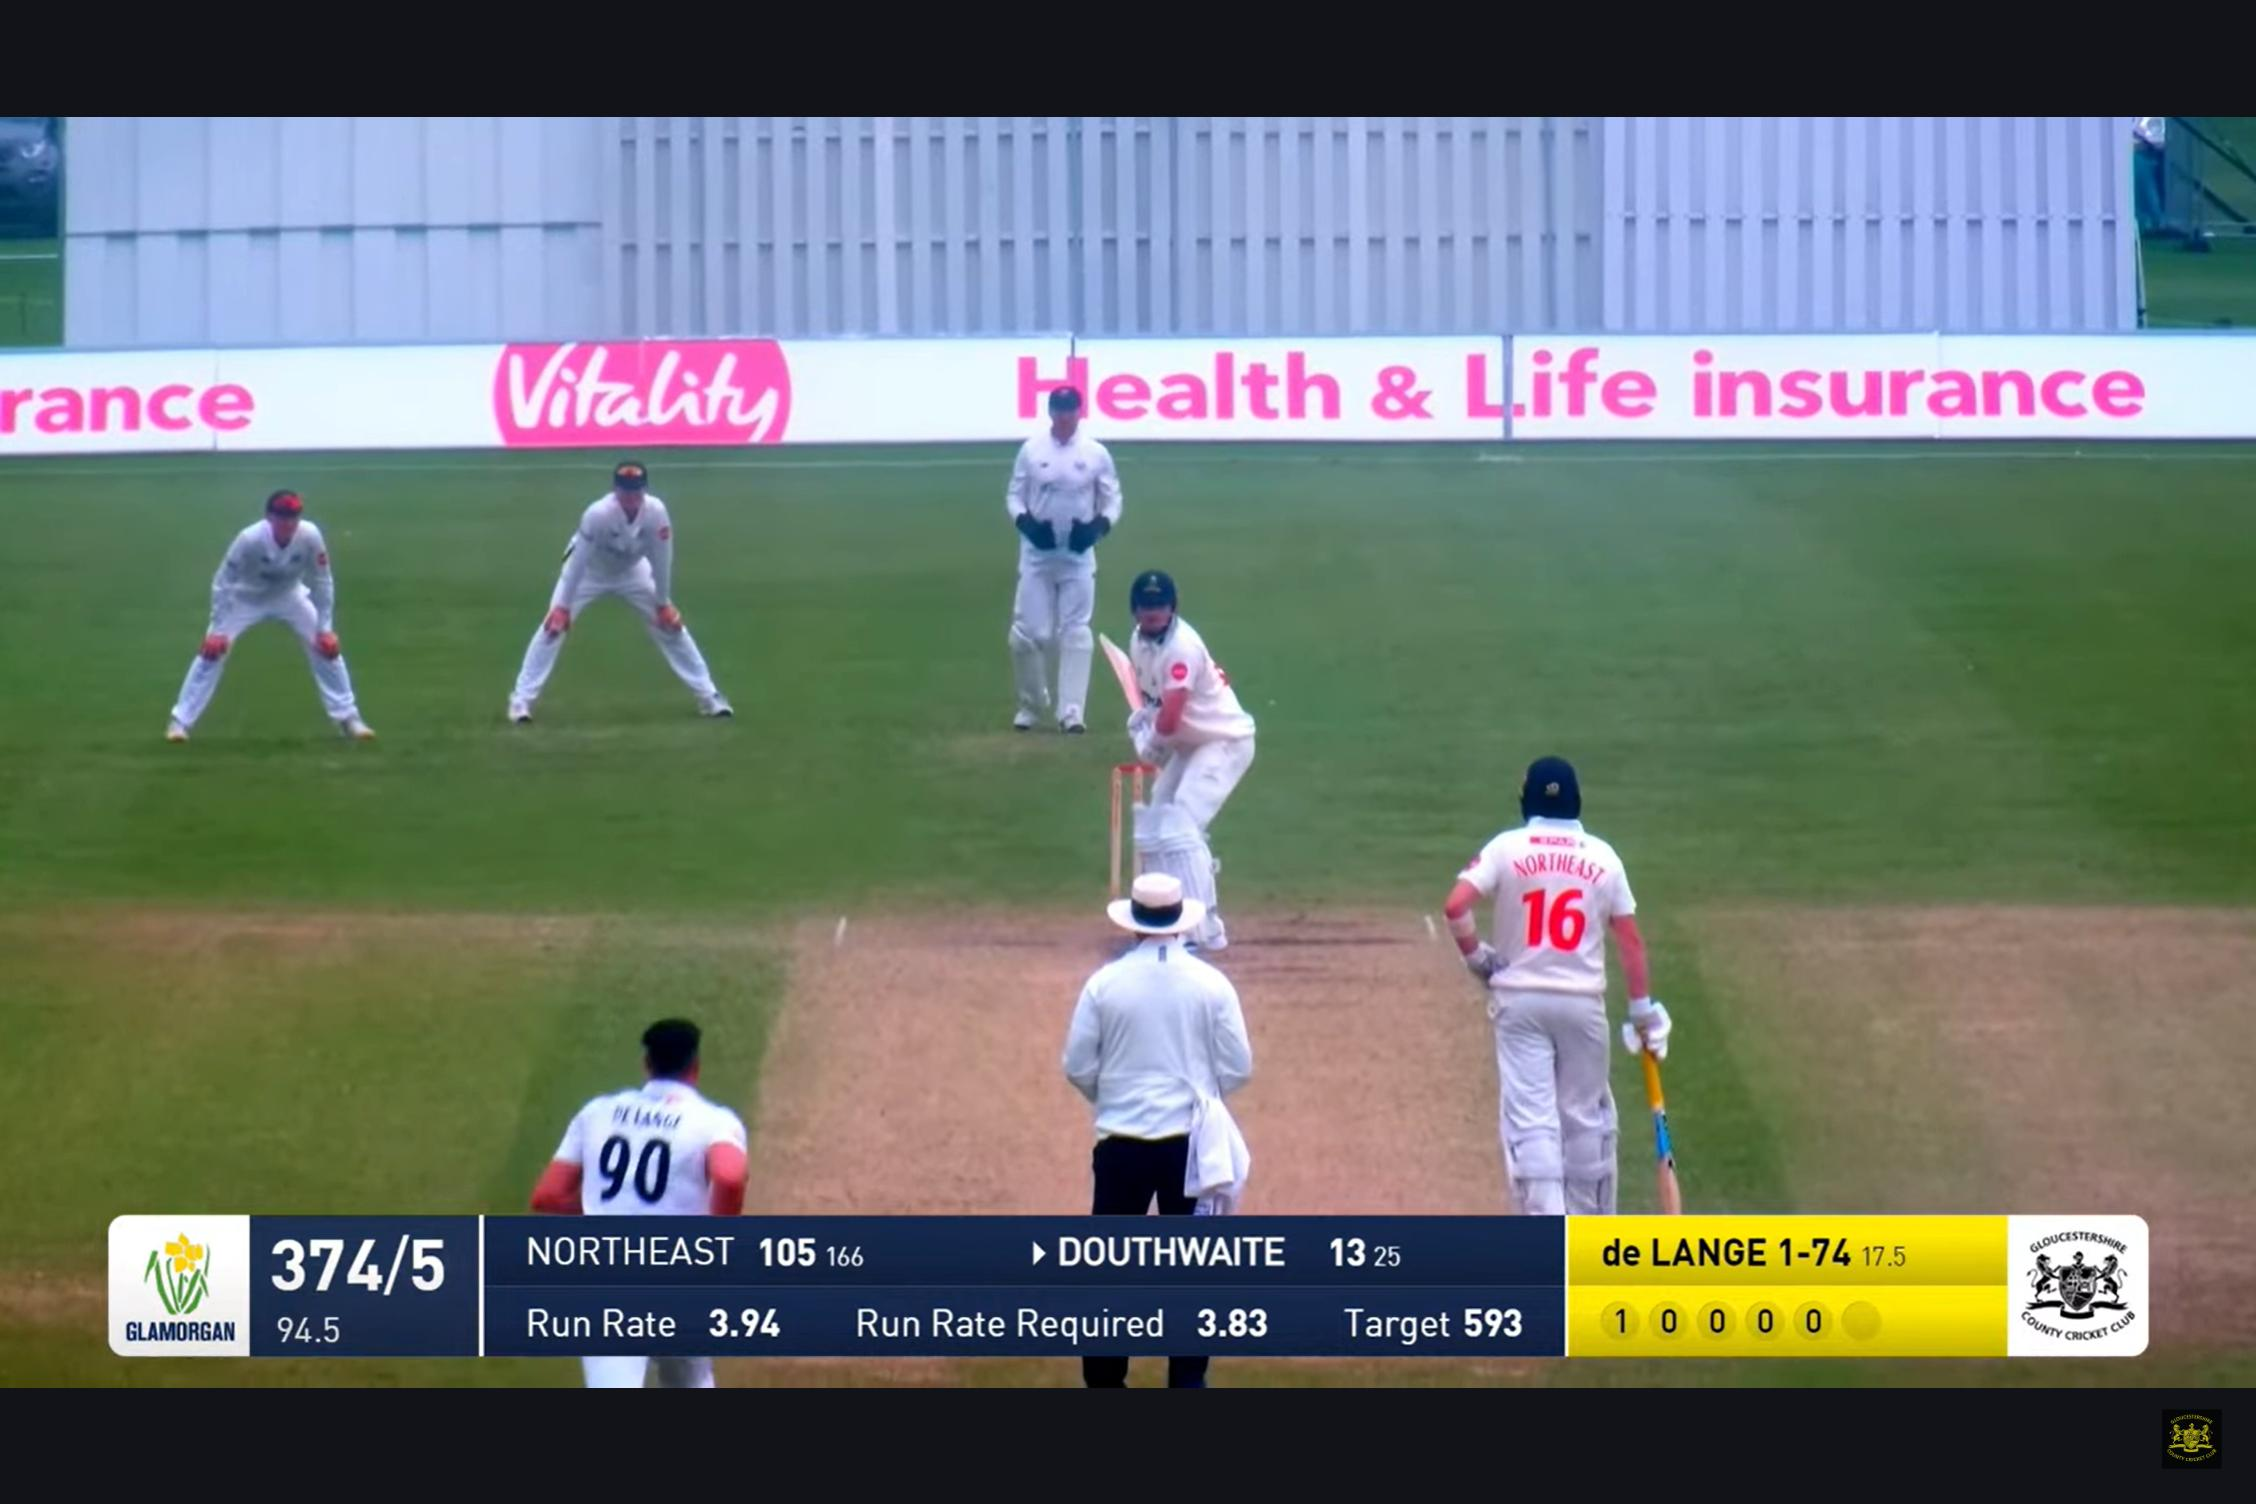batsman: (1083, 572, 1256, 923)
bowler running in: (504, 1010, 779, 1219)
non striker: (1437, 745, 1695, 1215)
